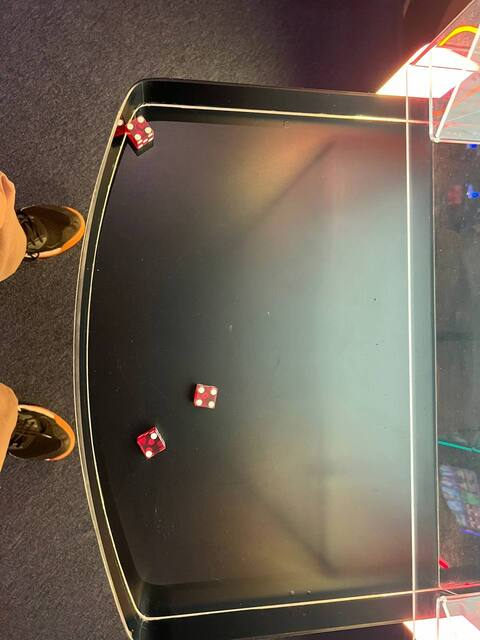four: (189, 381, 224, 412), (122, 111, 154, 144)
two: (135, 425, 168, 462)
